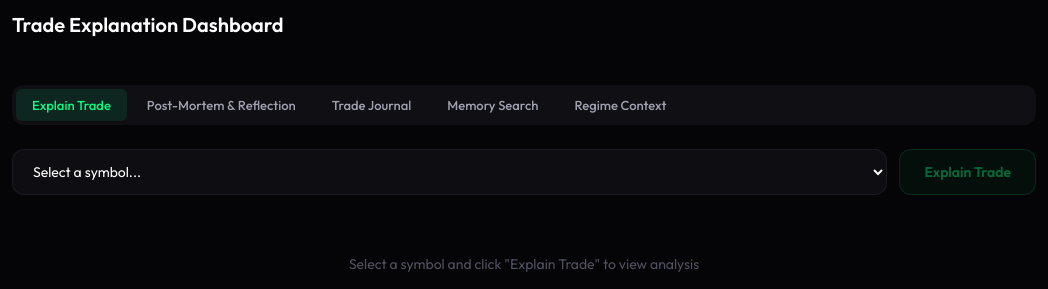
Test: TradeIntelligence - Scenario 3: Post-Mortem & Reflection Flow › Switches to post-mortem tab and shows form
Click the button "Post-Mortem & Reflection".
click(221, 105)  # box top-left (131, 89), bottom-right (312, 121)
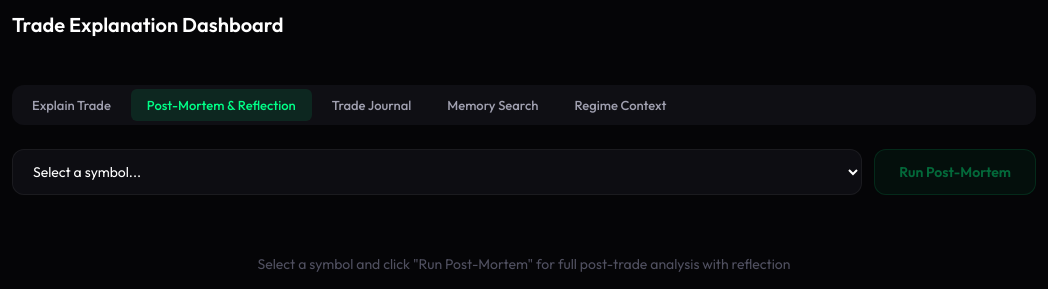
expect the button "Run Post-Mortem" is shown: met, box top-left (874, 149), bottom-right (1036, 195)
